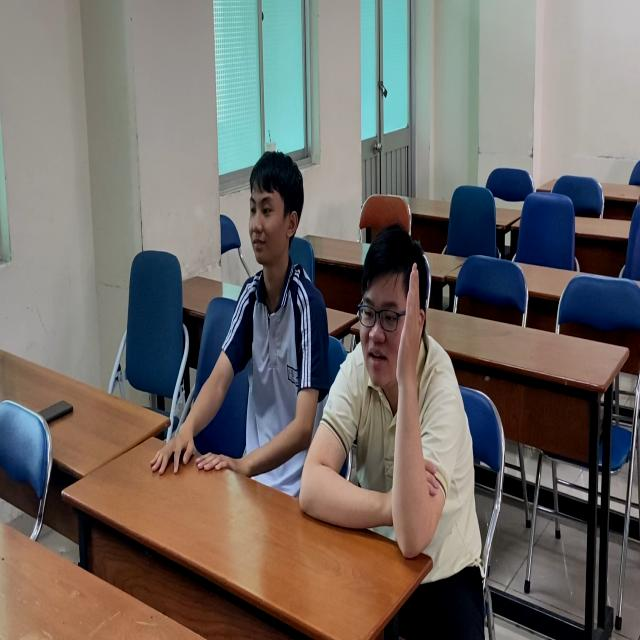raise_hand: (295, 222, 469, 575)
